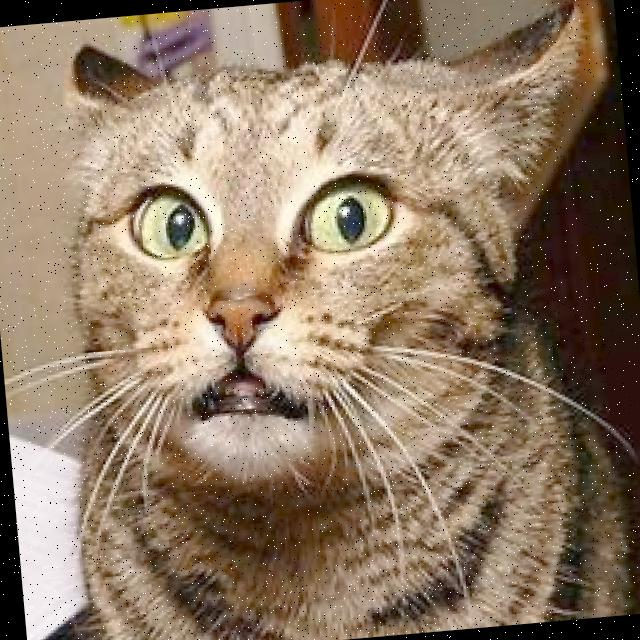Surprised: (82, 125, 480, 498)
